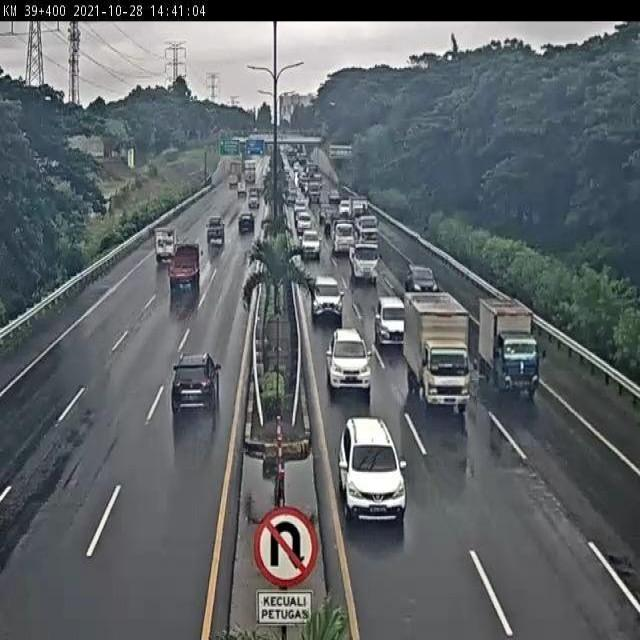car: (338, 417, 407, 528), (170, 350, 222, 414), (327, 327, 374, 396), (373, 296, 406, 351), (311, 275, 345, 321), (404, 262, 438, 294)
mid truck: (168, 240, 202, 289)
truck-m-: (403, 290, 472, 414)
truck-s-: (477, 296, 541, 401)
